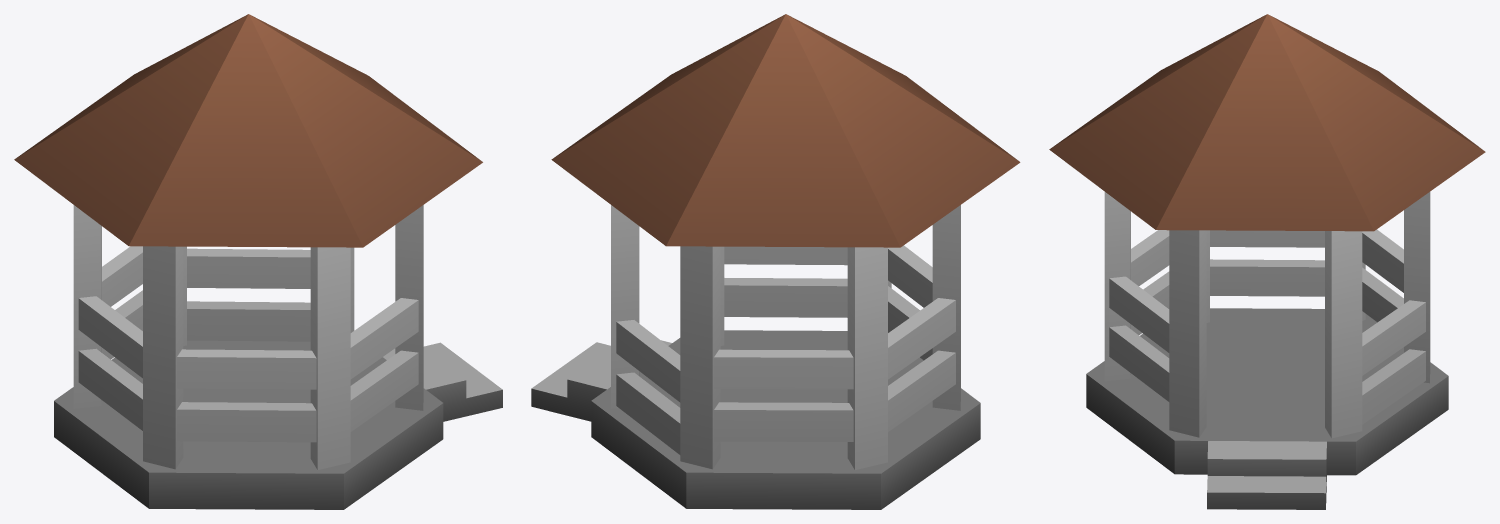
The model's file is veranda.fbx.
3 renders of one model, left to right at view 1: azimuth 30°, elevation 25°; view 2: azimuth 150°, elevation 25°; view 3: azimuth 270°, elevation 25°, orthographic. The views are drawn at different scales.
Visible parts, largest first — view 1: veranda; view 2: veranda; view 3: veranda.
Part boxes in pixels (<box>): veranda: <box>14,14,502,509</box>; veranda: <box>531,14,1020,509</box>; veranda: <box>1049,14,1485,509</box>.
Bounding box in the file's own units: 534 × 540 × 541.
1 material, 1 textured.
